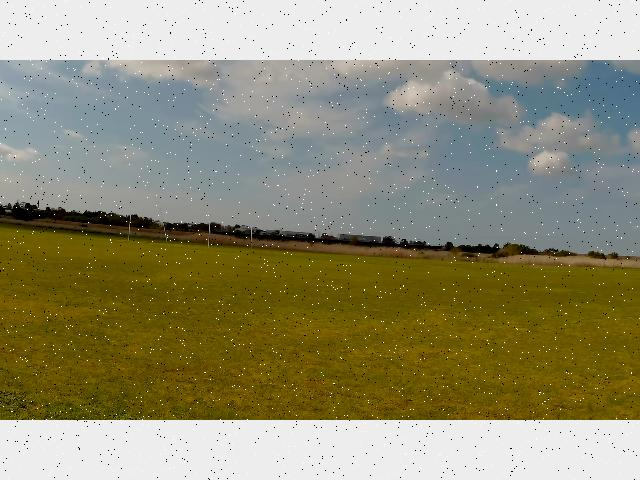Anti-Drone: (224, 156, 240, 174)
